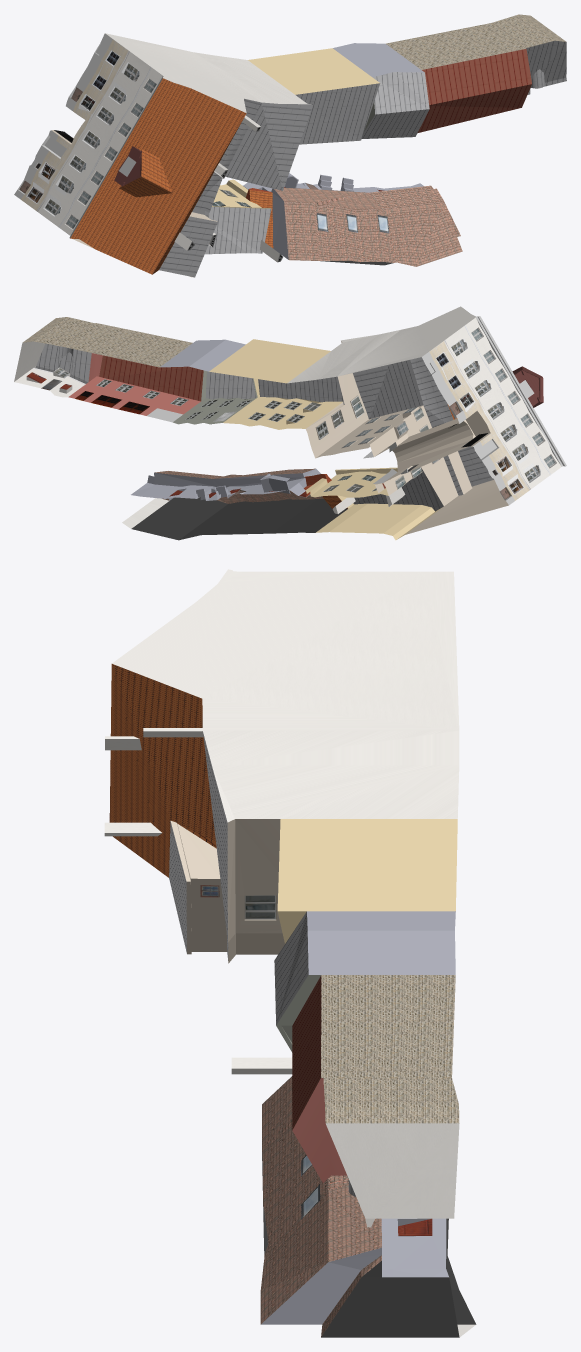
Rendered from Vene_6_1-origo.obj.
3 views of the same model, one above another, from view 1: azimuth 30°, elevation 25°; view 2: azimuth 150°, elevation 25°; view 3: azimuth 270°, elevation 25° (orthographic). The views are drawn at different scales.
Parts seen in each view (by area): view 1: Vene_6_1; view 2: Vene_6_1; view 3: Vene_6_1.
Boxes of the visible parts, left/top/right/bottom form: Vene_6_1: left=14, top=14, right=566, bottom=277; Vene_6_1: left=14, top=306, right=566, bottom=540; Vene_6_1: left=104, top=569, right=476, bottom=1337.
Bounding box in the file's own units: 66.88 × 31 × 21.65.
